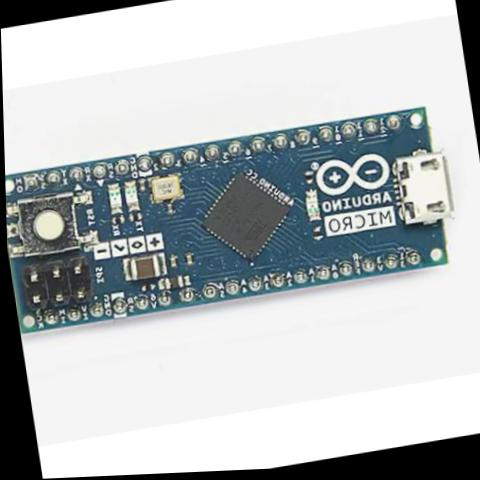Arduino-Micro: (3, 98, 469, 345)
